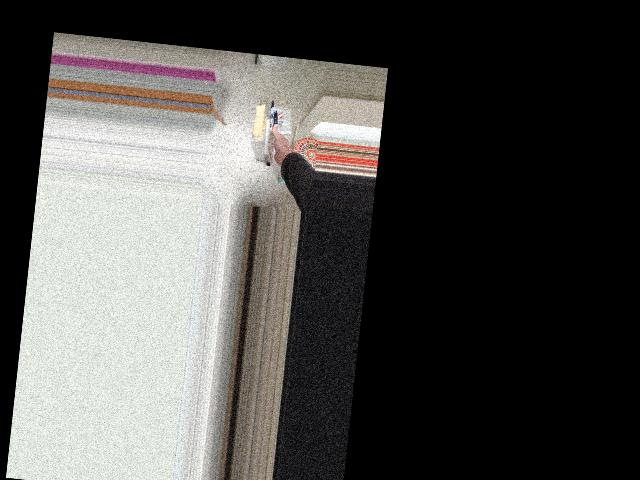cheese: (243, 99, 315, 173)
